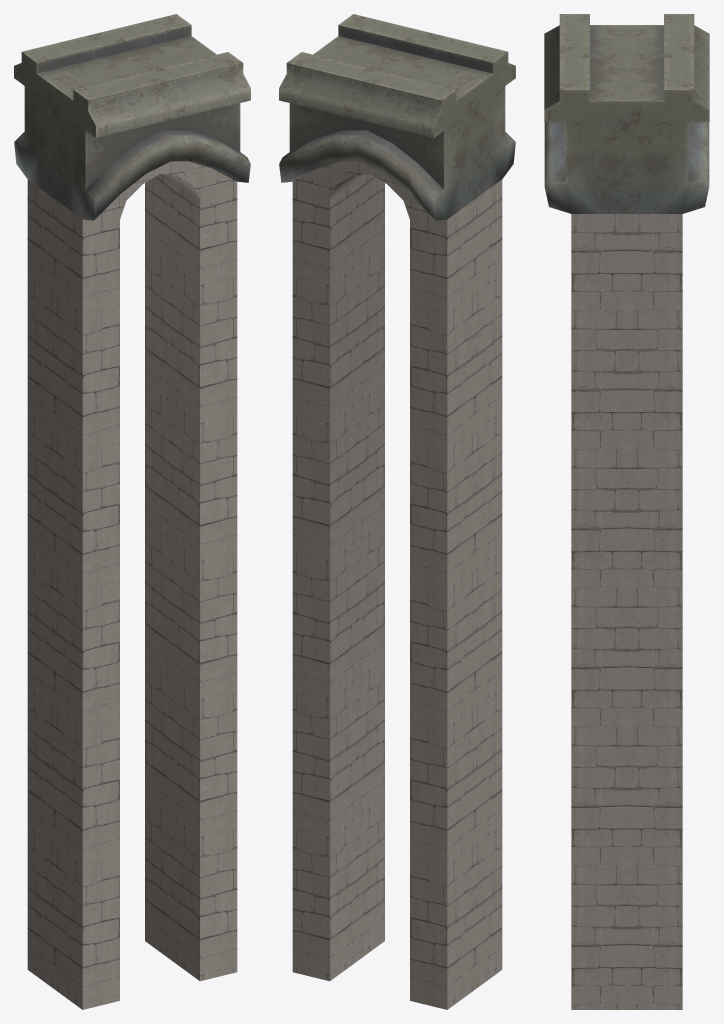
Rendered from AD_Wall_F_01.fbx.
3 renders of one model, left to right at view 1: azimuth 30°, elevation 25°; view 2: azimuth 150°, elevation 25°; view 3: azimuth 270°, elevation 25°, orthographic.
Visible parts, largest first — view 1: AD_Wall_F_01; view 2: AD_Wall_F_01; view 3: AD_Wall_F_01.
Part boxes in pixels (x1,y1,x2,y2): AD_Wall_F_01: (14,14,250,1009); AD_Wall_F_01: (279,14,515,1009); AD_Wall_F_01: (544,14,709,1009).
Bounding box in the file's own units: 396 × 2232 × 363.
Materials: 2 (2 with a texture image).
